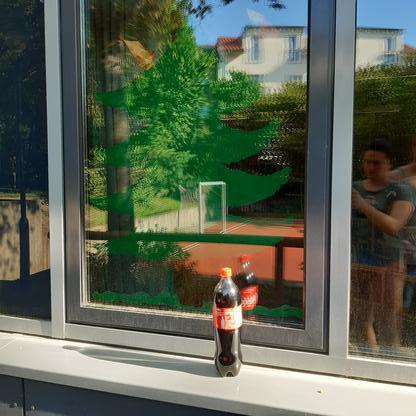coca-cola: (209, 266, 244, 377), (235, 253, 262, 319)
